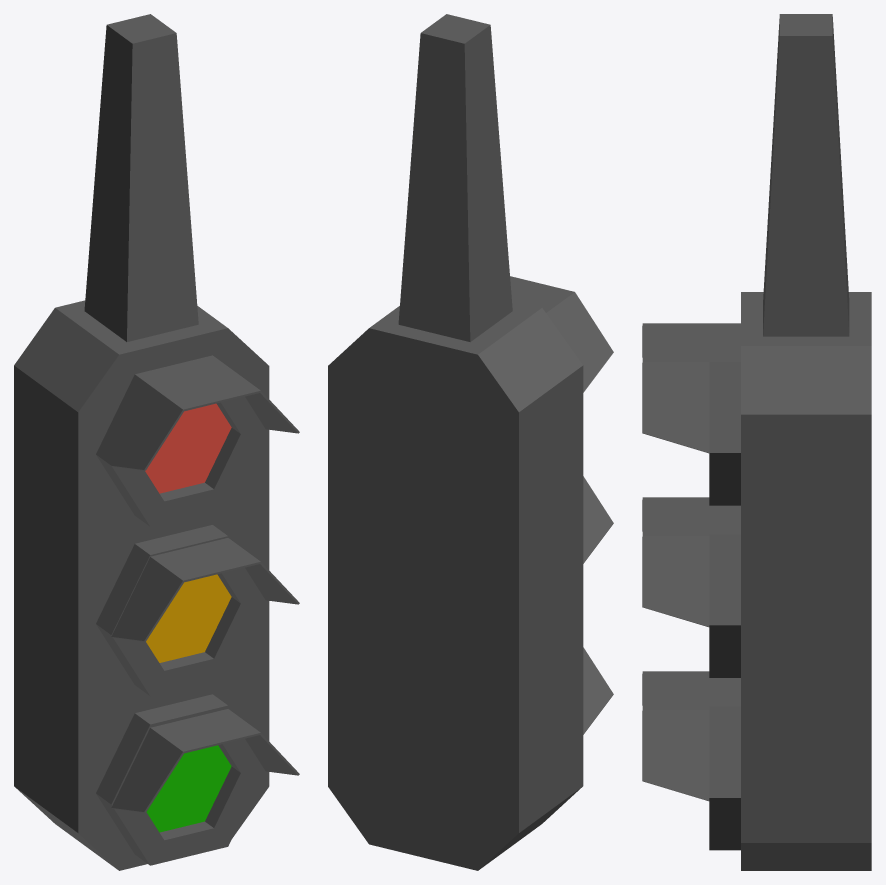
The model's file is traffic_06.fbx.
The picture shows the model from 3 angles, left to right: view 1: azimuth 30°, elevation 25°; view 2: azimuth 150°, elevation 25°; view 3: azimuth 270°, elevation 25°; orthographic projection.
Parts seen in each view (by area): view 1: Cube.003, Cube.004, Cube.007, Cube.005; view 2: Cube.003, Cube.007, Cube.005; view 3: Cube.003, Cube.005, Cube.007, Cube.004.
Boxes of the visible parts, x1,y1,x2,y2 form: Cube.003: (14,300,269,870); Cube.004: (96,355,265,865); Cube.007: (84,14,198,341); Cube.005: (111,367,299,812); Cube.003: (328,300,583,870); Cube.007: (398,14,512,341); Cube.005: (510,276,613,734); Cube.003: (741,292,871,870); Cube.005: (642,323,709,801); Cube.007: (763,14,849,336); Cube.004: (709,323,740,850).
Size of the model in its own units: 51.12 by 206 by 52.25.
